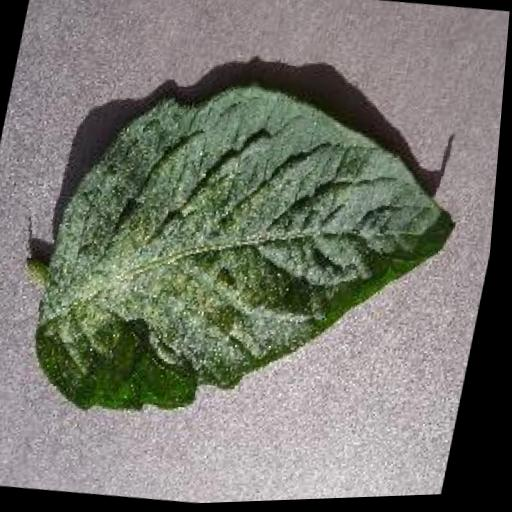Spider Mites: (24, 58, 489, 453)
